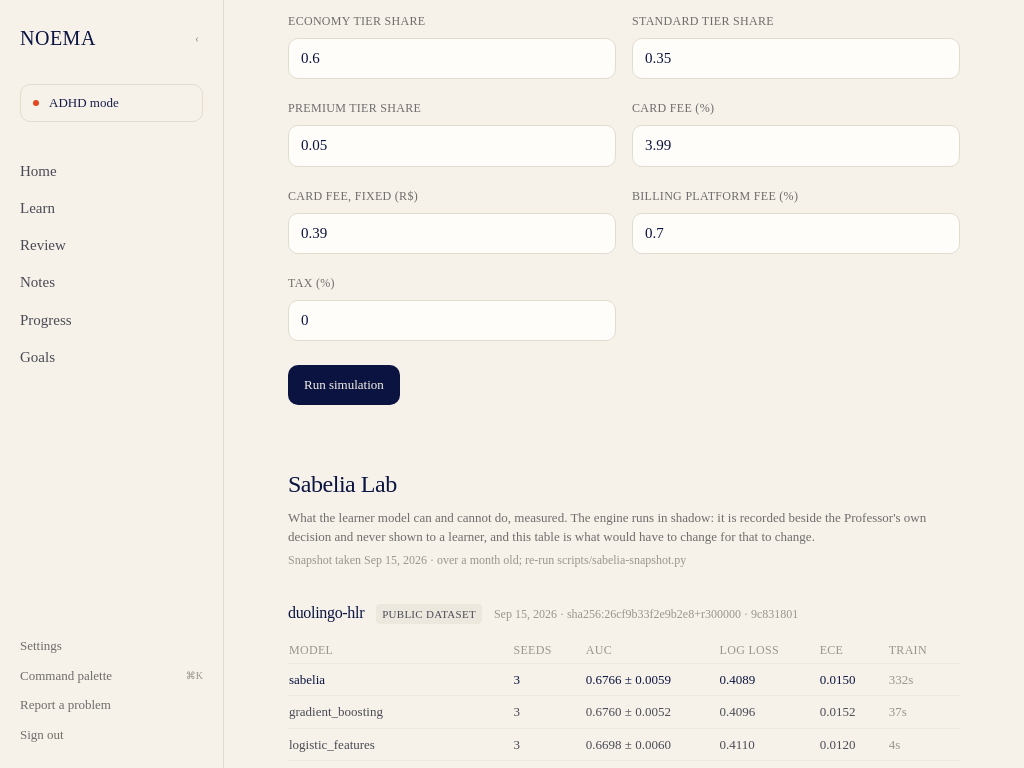
Test: AdminPage › runs the simulator and shows real computed results
(page scrolled)
Click the button "Run simulation". click: (344, 385)
box: [288,365,400,405]
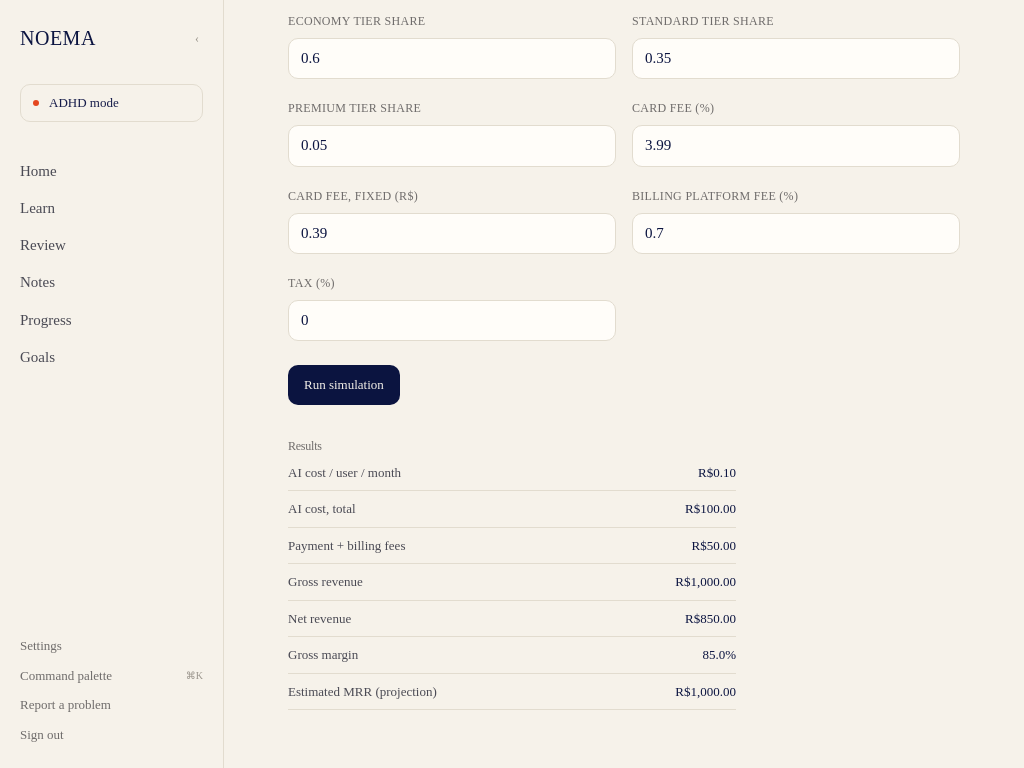
Expected: the heading "Results" is shown, [288,439,322,453]
